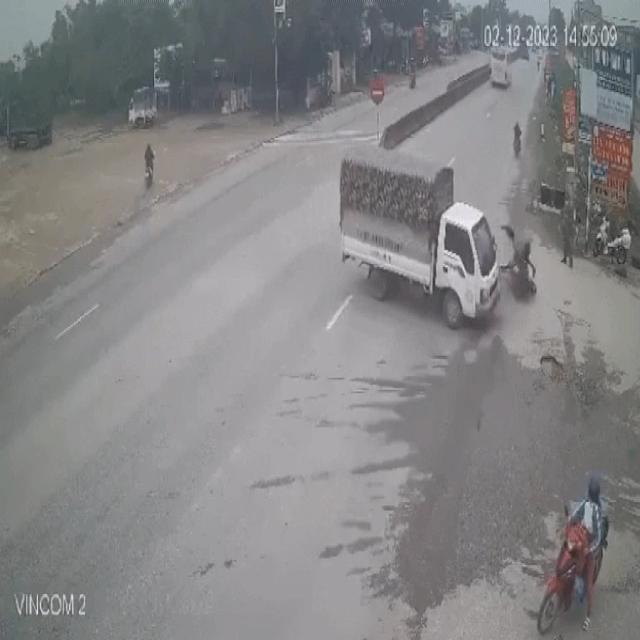multiple_accident: (333, 133, 540, 337)
